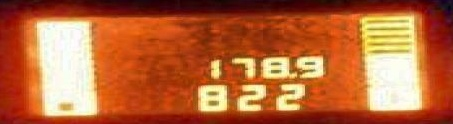-: (286, 70, 294, 77)
1: (206, 55, 221, 79)
2: (235, 82, 266, 111), (276, 81, 304, 110)
7: (226, 55, 255, 79)
8: (196, 82, 227, 111), (258, 54, 286, 77)
9: (294, 53, 325, 77)
